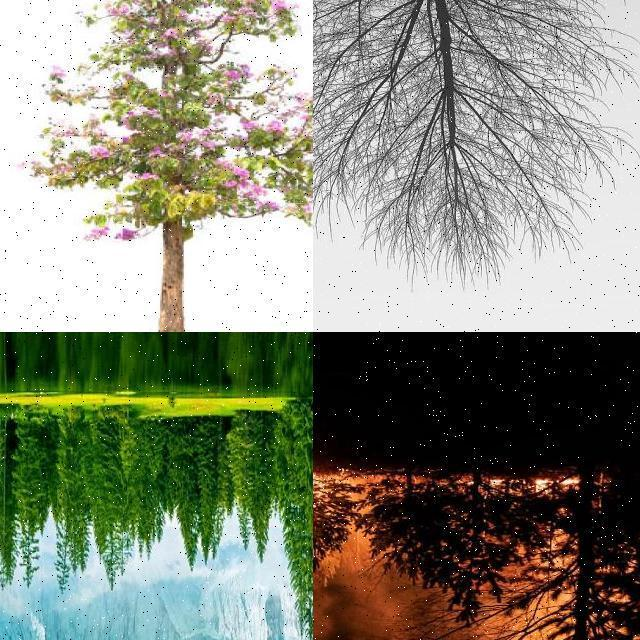tree: (312, 0, 640, 302), (27, 0, 314, 332), (414, 472, 640, 640), (414, 478, 524, 620), (362, 476, 444, 588), (92, 409, 136, 599), (226, 417, 274, 568), (313, 461, 367, 583), (12, 420, 48, 602), (55, 414, 89, 598), (167, 420, 206, 572), (313, 468, 361, 580), (313, 471, 349, 574), (288, 401, 312, 539), (286, 530, 314, 640), (313, 572, 353, 640)
